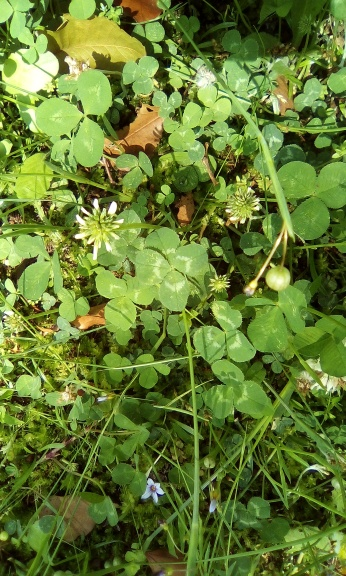4leaf: (135, 227, 209, 312)
